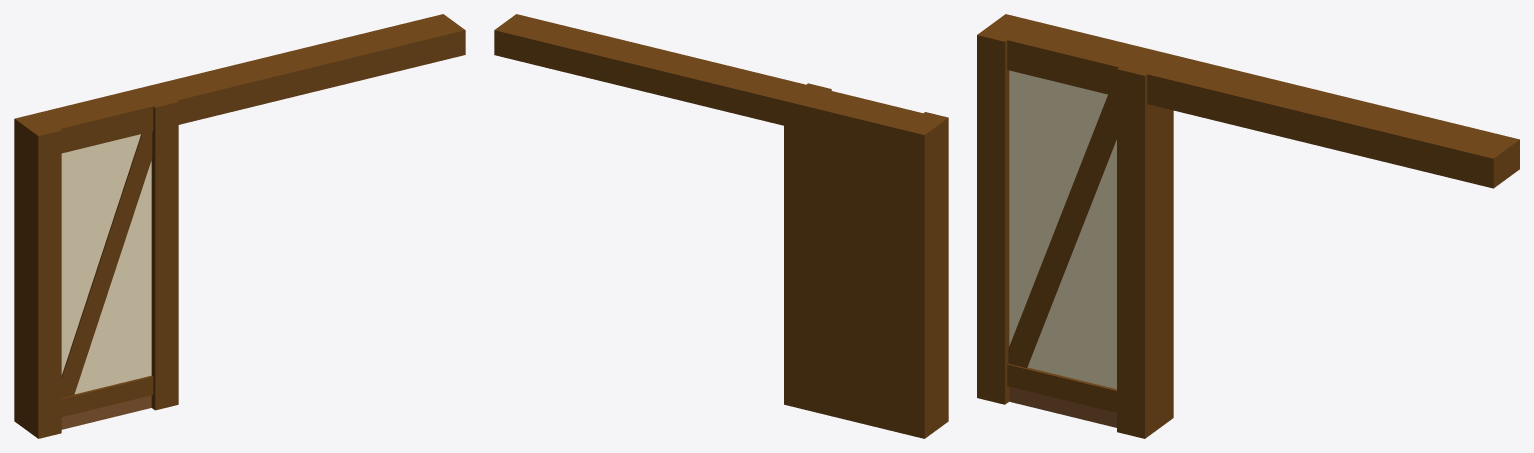
Rendered from Asian_Prop_Building_Modular_Wall_Rural_Open_01.FBX.
The picture shows the model from 3 angles, left to right: view 1: azimuth 30°, elevation 25°; view 2: azimuth 150°, elevation 25°; view 3: azimuth 330°, elevation 25°; orthographic projection. The views are drawn at different scales.
Parts seen in each view (by area): view 1: Asian_Prop_Building_Modular_Wall_Rural_Open_01; view 2: Asian_Prop_Building_Modular_Wall_Rural_Open_01; view 3: Asian_Prop_Building_Modular_Wall_Rural_Open_01.
Boxes of the visible parts, box(x1,y1,x2,y2) form: Asian_Prop_Building_Modular_Wall_Rural_Open_01: box(14, 14, 465, 438); Asian_Prop_Building_Modular_Wall_Rural_Open_01: box(494, 14, 948, 438); Asian_Prop_Building_Modular_Wall_Rural_Open_01: box(977, 14, 1519, 438).
Size of the model in its own units: 5167 by 3485 by 500.
